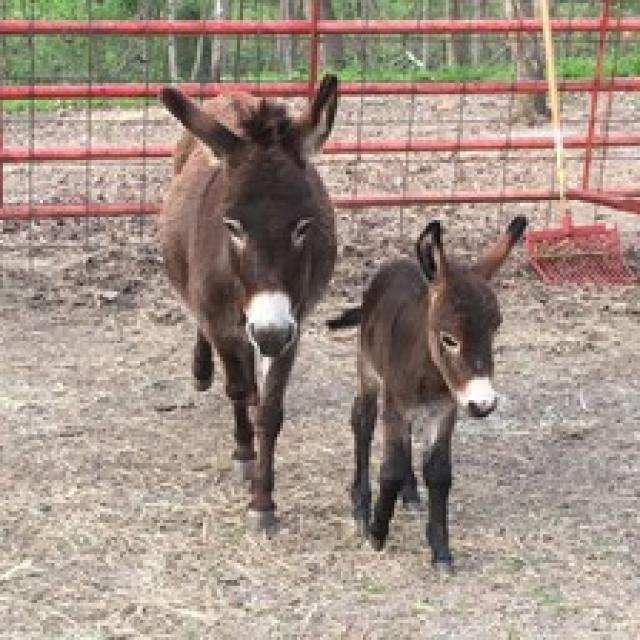Donkey: (154, 71, 340, 532), (322, 212, 528, 577)
